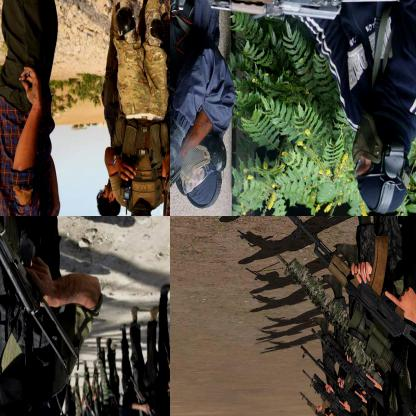rifle: (283, 216, 415, 372), (276, 248, 410, 380), (0, 216, 86, 377), (309, 322, 386, 406), (300, 341, 368, 414), (301, 369, 361, 415), (298, 390, 342, 415), (155, 152, 169, 215)
